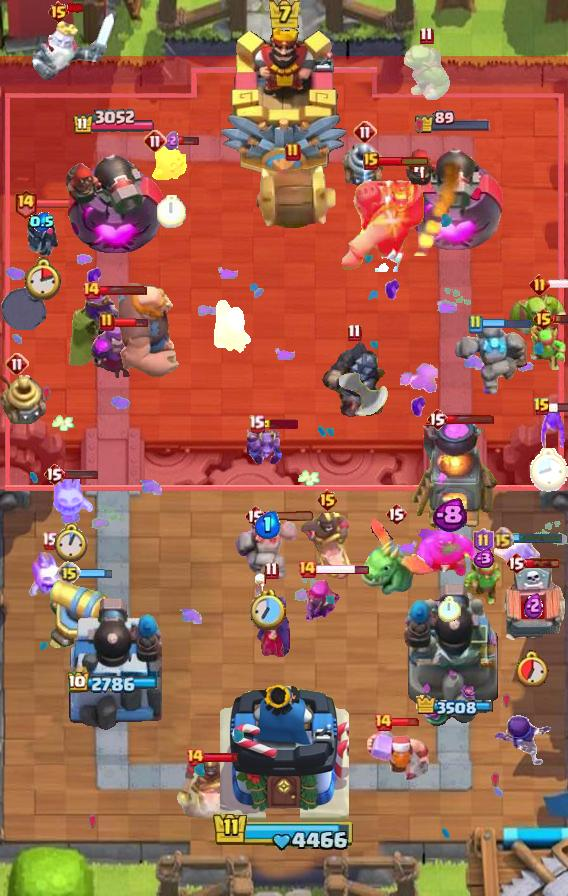archer-evolution: (300, 571, 340, 625)
axe: (332, 370, 388, 426)
bar: (315, 563, 370, 576), (480, 317, 532, 330), (511, 532, 564, 544), (377, 155, 430, 167), (264, 511, 316, 522), (445, 414, 495, 425), (98, 285, 148, 296), (113, 316, 149, 329), (63, 468, 99, 480), (165, 135, 200, 147), (203, 752, 240, 763), (78, 568, 114, 579), (35, 198, 71, 209), (525, 558, 560, 569), (262, 419, 298, 429), (390, 717, 422, 727), (548, 278, 568, 290), (549, 401, 568, 413), (67, 2, 86, 14), (553, 313, 568, 325)
bar-level: (13, 188, 38, 219), (57, 561, 81, 585), (5, 352, 29, 376), (143, 129, 167, 153), (353, 120, 377, 144), (316, 488, 339, 512), (532, 307, 555, 331), (47, 0, 70, 24), (473, 528, 494, 554), (491, 527, 514, 550), (505, 551, 527, 575), (244, 504, 266, 528), (385, 502, 407, 526), (43, 462, 65, 486), (426, 407, 448, 431), (529, 274, 550, 295), (185, 747, 205, 767), (373, 712, 393, 732), (297, 559, 317, 579), (81, 280, 101, 300), (533, 397, 551, 417), (41, 531, 58, 550), (248, 414, 265, 433), (467, 314, 483, 334), (99, 312, 115, 332), (285, 142, 301, 162), (363, 152, 379, 170), (264, 561, 279, 580), (347, 323, 362, 342), (419, 26, 434, 45)
barbarian-barrel: (248, 164, 338, 232)
bat-evolution: (538, 410, 568, 454)
bomb: (0, 268, 52, 330)
bomber-evolution: (492, 712, 552, 768)
cannoneer-tower: (402, 579, 504, 731), (66, 595, 162, 731), (403, 138, 504, 256), (64, 138, 164, 256)
clock: (529, 448, 568, 493), (24, 257, 61, 300), (250, 590, 286, 630), (54, 523, 88, 563), (517, 650, 549, 687), (157, 195, 186, 228), (438, 596, 461, 622)
elixir: (432, 498, 467, 533), (255, 511, 281, 539), (524, 591, 543, 619), (29, 212, 55, 232), (471, 549, 495, 568), (164, 131, 179, 150)
elixir-golem-mid: (417, 528, 481, 578)
firecracker: (212, 297, 254, 355)
goblin-brawler: (506, 289, 568, 349), (398, 42, 454, 100)
golemite: (451, 322, 527, 400), (235, 516, 301, 582)
heal-spirit: (151, 143, 191, 181)
ice-spirit-evolution: (47, 474, 95, 522), (28, 549, 70, 599), (490, 534, 540, 572)
king-tower: (219, 23, 349, 181), (220, 678, 349, 826)
king-tower-bar: (212, 811, 356, 853)
lumberjack: (364, 726, 432, 782)
mini-pekka: (24, 206, 60, 260)
minion: (247, 429, 285, 467)
mother-witch: (90, 318, 144, 378)
royal-ghost: (29, 12, 117, 92)
spear-goblin: (462, 557, 504, 607), (526, 324, 568, 370)
tower-bar: (72, 109, 156, 136), (68, 672, 160, 695), (414, 110, 492, 134), (414, 695, 493, 717)
witch: (248, 571, 294, 659)
zappy: (339, 140, 391, 196), (0, 375, 46, 427)
